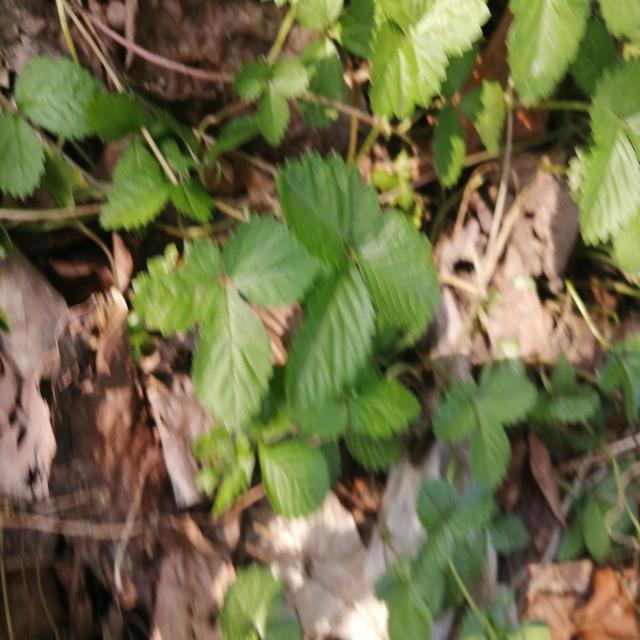Mock_strawberry: (301, 144, 444, 426)
